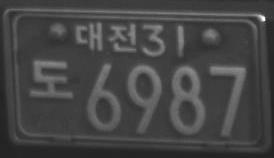1: (170, 24, 191, 59)
3: (139, 21, 166, 58)
6: (85, 62, 123, 133)
7: (207, 63, 248, 139)
8: (166, 63, 207, 137)
9: (124, 62, 162, 135)
대전_O: (73, 21, 138, 54)
도: (28, 58, 74, 100)
